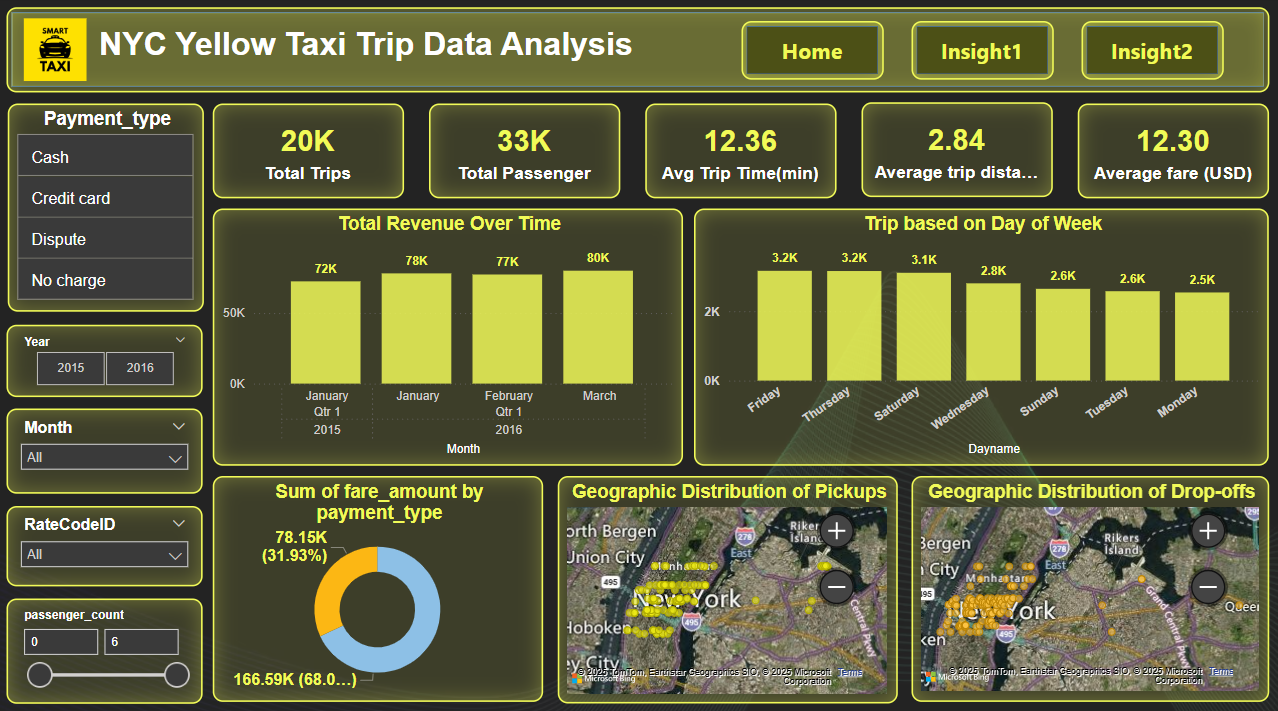

The page's visual inventory and layout, read from the dashboard file:
{"tool":"powerbi","page":{"name":"Insight1","canvas":[1280,720],"ordinal":1},"visuals":[{"type":"shape","box":[12.3,10.8,1257,84.5],"z":0,"group":"g1"},{"type":"card","fields":{"Values":["Sum(Append1.passenger_count)"]},"box":[432.9,107,190,94.5],"z":0},{"type":"shape","box":[743.7,24.6,141.4,58.4],"z":1000,"group":"g1"},{"type":"card","fields":{"Values":["Avg(Append1.trip_distance)"]},"box":[863.3,105.7,190,94],"z":1000},{"type":"shape","box":[912.8,24.6,141.4,58.4],"z":2000,"group":"g1"},{"type":"card","fields":{"Values":["Avg(Append1.time_trip)"]},"box":[648.1,107,190,94.5],"z":2000},{"type":"shape","box":[1081.8,24.6,141.4,58.4],"z":3000,"group":"g1"},{"type":"card","fields":{"Values":["Avg(Append1.fare_amount)"]},"box":[1078.5,107,190.3,94.5],"z":3000},{"type":"columnChart","title":"Trip based on Day of Week","fields":{"Category":["Append1.Dayname"],"Y":["CountNonNull(Append1.Dayname)"]},"box":[696.6,211.5,572.2,256.3],"z":4000},{"type":"donutChart","fields":{"Category":["Append1.payment_type"],"Y":["Sum(Append1.fare_amount)"]},"box":[217.7,477.7,328.4,225.2],"z":5000},{"type":"card","fields":{"Values":["Append1.Total Trips"]},"box":[217.7,107,190,94.5],"z":6000},{"type":"advancedSlicerVisual","title":"Payment_type","fields":{"Values":["Append1.payment_type"]},"box":[13.8,107.6,195.2,207.4],"z":7000},{"type":"slicer","fields":{"Values":["Append1.RateCodeID"]},"box":[12.3,507.5,195.2,79.9],"z":8000},{"type":"slicer","fields":{"Values":["Append1.passenger_count"]},"box":[12.3,599.3,195.2,104.5],"z":9000},{"type":"slicer","fields":{"Values":["Append1.tpep_dropoff_datetime.Variation.Date Hierarchy.Year"]},"box":[12.3,326.9,195.2,72.2],"z":10000},{"type":"slicer","fields":{"Values":["Append1.tpep_dropoff_datetime.Variation.Date Hierarchy.Month"]},"box":[12.3,411,195.2,84.5],"z":11000},{"type":"columnChart","title":"Total Revenue Over Time","fields":{"Category":["Append1.tpep_pickup_datetime.Variation.Date Hierarchy.Year","Append1.tpep_pickup_datetime.Variation.Date Hierarchy.Quarter","Append1.tpep_pickup_datetime.Variation.Date Hierarchy.Month","Append1.tpep_pickup_datetime.Variation.Date Hierarchy.Day"],"Y":["Append1.TotalRevenue"]},"box":[217.7,211.5,467.7,256.3],"z":12000},{"type":"map","title":"Geographic Distribution of Pickups","fields":{"Y":["Append1.pickup_latitude"],"X":["Append1.pickup_longitude"]},"box":[561,477.7,338.4,226.4],"z":13000},{"type":"map","title":" Geographic Distribution of Drop-offs","fields":{"X":["Append1.dropoff_longitude"],"Y":["Append1.dropoff_latitude"]},"box":[913.1,477.7,355.8,225.2],"z":14000},{"type":"group","id":"g1","title":"Group 1","box":[12.3,10.8,1257,84.5],"z":15000,"group":"g2"},{"type":"image","box":[24.6,16.9,72.2,72.2],"z":16000,"group":"g2"},{"type":"textbox","box":[99.9,24.6,550.1,58.4],"z":17000,"group":"g2"},{"type":"group","id":"g2","title":"Group 2","box":[12.3,10.8,1257,84.5],"z":17001}]}

Visuals, with their boxes in screenshot pixels (x1, y1, x2, y2), scaled from the page's 1280x720 canvas onto the 1278x711 screenshot:
shape: <box>12,11,1267,94</box>
card - Sum(Append1.passenger_count): <box>432,106,622,199</box>
shape: <box>743,24,884,82</box>
card - Avg(Append1.trip_distance): <box>862,104,1052,197</box>
shape: <box>911,24,1053,82</box>
card - Avg(Append1.time_trip): <box>647,106,837,199</box>
shape: <box>1080,24,1221,82</box>
card - Avg(Append1.fare_amount): <box>1077,106,1267,199</box>
"Trip based on Day of Week" columnChart: <box>696,209,1267,462</box>
donutChart - Append1.payment_type x Sum(Append1.fare_amount): <box>217,472,545,694</box>
card - Append1.Total Trips: <box>217,106,407,199</box>
"Payment_type" advancedSlicerVisual: <box>14,106,209,311</box>
slicer - Append1.RateCodeID: <box>12,501,207,580</box>
slicer - Append1.passenger_count: <box>12,592,207,695</box>
slicer - Append1.tpep_dropoff_datetime.Variation.Date Hierarchy.Year: <box>12,323,207,394</box>
slicer - Append1.tpep_dropoff_datetime.Variation.Date Hierarchy.Month: <box>12,406,207,489</box>
"Total Revenue Over Time" columnChart: <box>217,209,684,462</box>
"Geographic Distribution of Pickups" map: <box>560,472,898,695</box>
" Geographic Distribution of Drop-offs" map: <box>912,472,1267,694</box>
"Group 1" group: <box>12,11,1267,94</box>
image: <box>25,17,97,88</box>
textbox: <box>100,24,649,82</box>
"Group 2" group: <box>12,11,1267,94</box>
